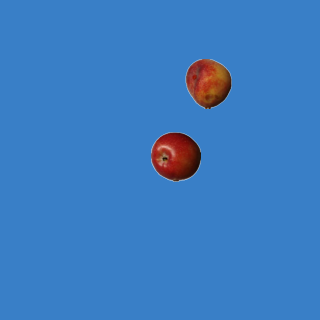Apple Braeburn: (150, 131, 200, 181)
Peach: (183, 58, 233, 108)
